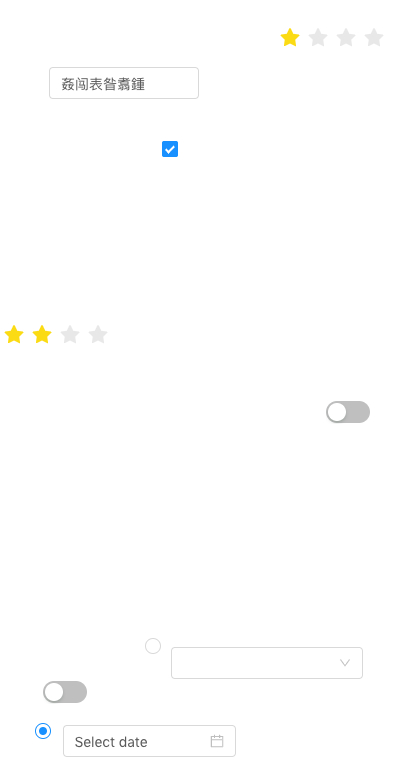Checkbox: (162, 138, 178, 159)
DatePicker: (63, 725, 236, 757)
Input: (49, 67, 199, 99)
Radio: (35, 720, 51, 740), (145, 635, 161, 655)
Rate: (280, 21, 400, 53), (4, 318, 124, 350)
Select: (171, 647, 363, 679)
Switch: (326, 400, 370, 424), (43, 680, 87, 704)
